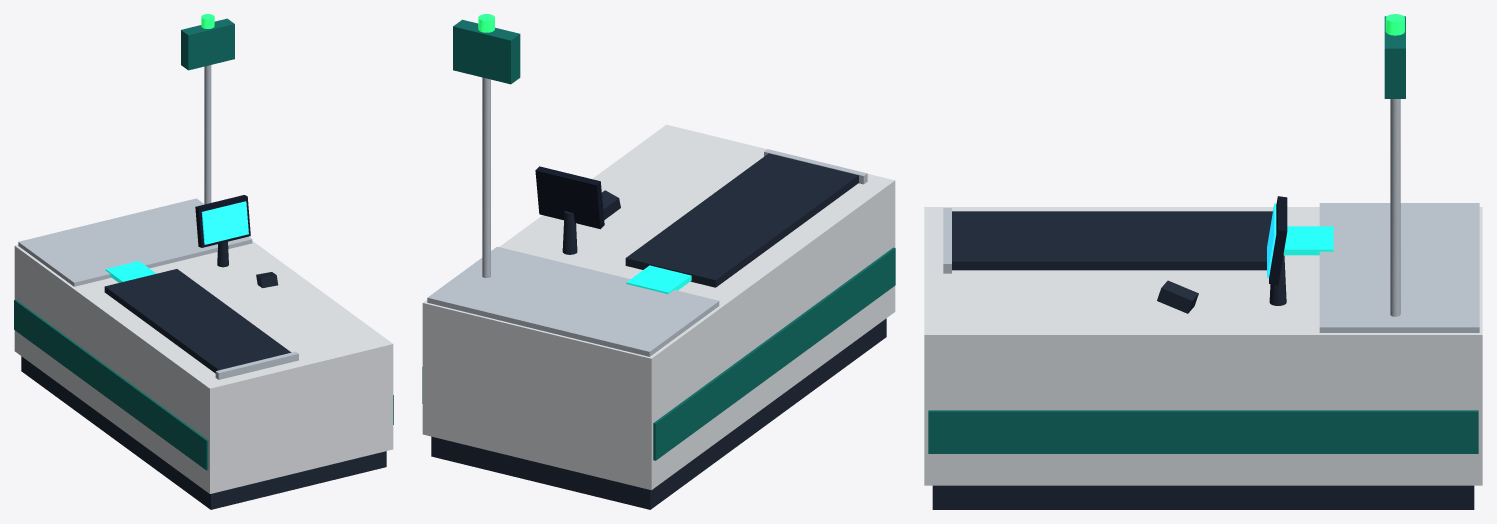
The model's file is checkout.glb.
3 renders of one model, left to right at view 1: azimuth 30°, elevation 25°; view 2: azimuth 150°, elevation 25°; view 3: azimuth 270°, elevation 25°, orthographic. The views are drawn at different scales.
Parts seen in each view (by area): view 1: Counter_Body, Stainless_BagWell, Conveyor_Belt, Side_Accent_Panel, Kickplate_Base, Lane_Sign_Box, POS_Screen_Glow, Lane_Sign_Pole, Belt_Chrome_Trim, POS_Monitor, Barcode_Scanner; view 2: Counter_Body, Stainless_BagWell, Conveyor_Belt, Side_Accent_Panel, Kickplate_Base, Lane_Sign_Box, POS_Monitor, Lane_Sign_Pole, Barcode_Scanner, POS_Stand, Belt_Chrome_Trim; view 3: Counter_Body, Side_Accent_Panel, Stainless_BagWell, Conveyor_Belt, Kickplate_Base, Lane_Sign_Pole, Lane_Sign_Box, Barcode_Scanner, POS_Monitor, Card_Terminal.
Part boxes in pixels (bbox=[...]): Counter_Body: bbox=[14, 241, 393, 493]; Stainless_BagWell: bbox=[18, 198, 252, 286]; Conveyor_Belt: bbox=[104, 269, 291, 373]; Side_Accent_Panel: bbox=[14, 299, 393, 470]; Kickplate_Base: bbox=[21, 356, 386, 509]; Lane_Sign_Box: bbox=[181, 18, 234, 70]; POS_Screen_Glow: bbox=[201, 201, 248, 244]; Lane_Sign_Pole: bbox=[204, 65, 211, 204]; Belt_Chrome_Trim: bbox=[215, 351, 298, 379]; POS_Monitor: bbox=[195, 195, 250, 247]; Barcode_Scanner: bbox=[105, 261, 156, 282]; Counter_Body: bbox=[422, 124, 895, 490]; Stainless_BagWell: bbox=[427, 246, 719, 356]; Conveyor_Belt: bbox=[625, 153, 858, 287]; Side_Accent_Panel: bbox=[422, 247, 895, 460]; Kickplate_Base: bbox=[431, 318, 886, 509]; Lane_Sign_Box: bbox=[453, 19, 520, 84]; POS_Monitor: bbox=[535, 166, 604, 229]; Lane_Sign_Pole: bbox=[482, 77, 490, 277]; Barcode_Scanner: bbox=[626, 265, 691, 293]; POS_Stand: bbox=[562, 211, 577, 254]; Belt_Chrome_Trim: bbox=[764, 149, 867, 184]; Counter_Body: bbox=[924, 207, 1482, 485]; Side_Accent_Panel: bbox=[928, 410, 1478, 453]; Stainless_BagWell: bbox=[1319, 203, 1479, 332]; Conveyor_Belt: bbox=[952, 211, 1272, 270]; Kickplate_Base: bbox=[932, 485, 1474, 509]; Lane_Sign_Pole: bbox=[1390, 99, 1400, 316]; Lane_Sign_Box: bbox=[1384, 16, 1405, 98]; Barcode_Scanner: bbox=[1283, 226, 1333, 255]; POS_Monitor: bbox=[1269, 196, 1287, 284]; Card_Terminal: bbox=[1157, 280, 1198, 313].
Bounding box in the file's own units: 1.46 × 2.49 × 2.62.
